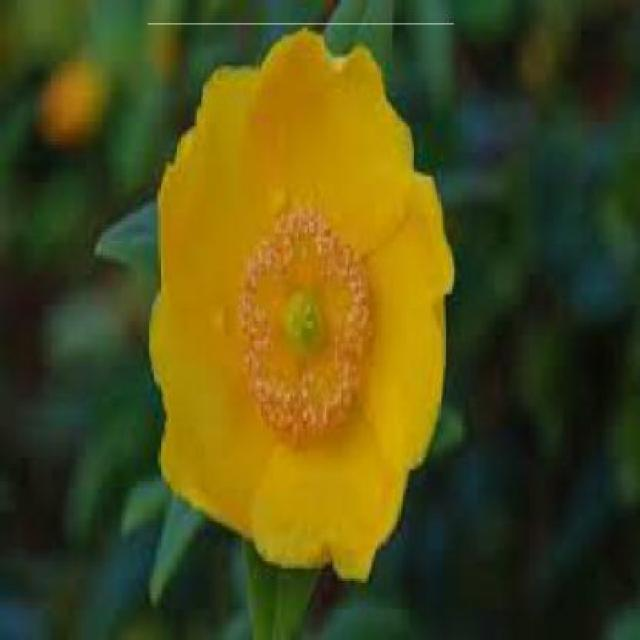Flower: (147, 23, 456, 575)
